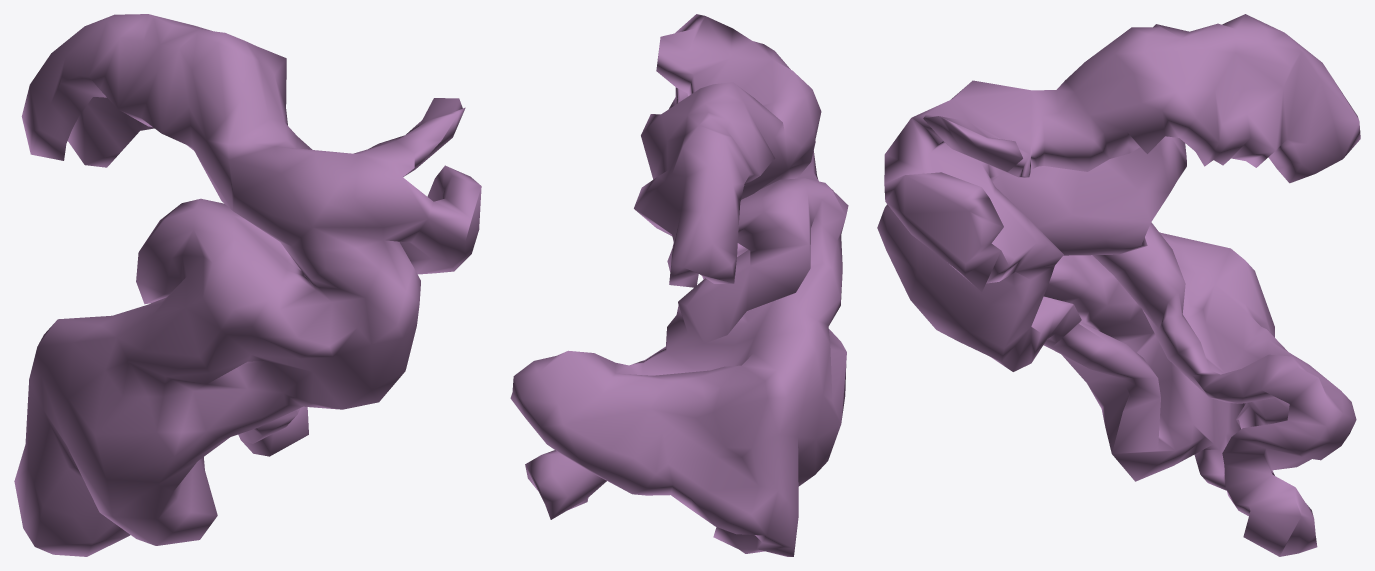
3 renders of one model, left to right at view 1: azimuth 30°, elevation 25°; view 2: azimuth 150°, elevation 25°; view 3: azimuth 270°, elevation 25°, orthographic. The views are drawn at different scales.
Visible parts, largest first — view 1: 右侧缘上回; view 2: 右侧缘上回; view 3: 右侧缘上回.
Boxes of the visible parts, left/top/right/bottom form: 右侧缘上回: left=14, top=14, right=481, bottom=556; 右侧缘上回: left=510, top=14, right=848, bottom=556; 右侧缘上回: left=877, top=14, right=1360, bottom=556.
Size of the model in its own units: 0.0445 by 0.0722 by 0.0648.
